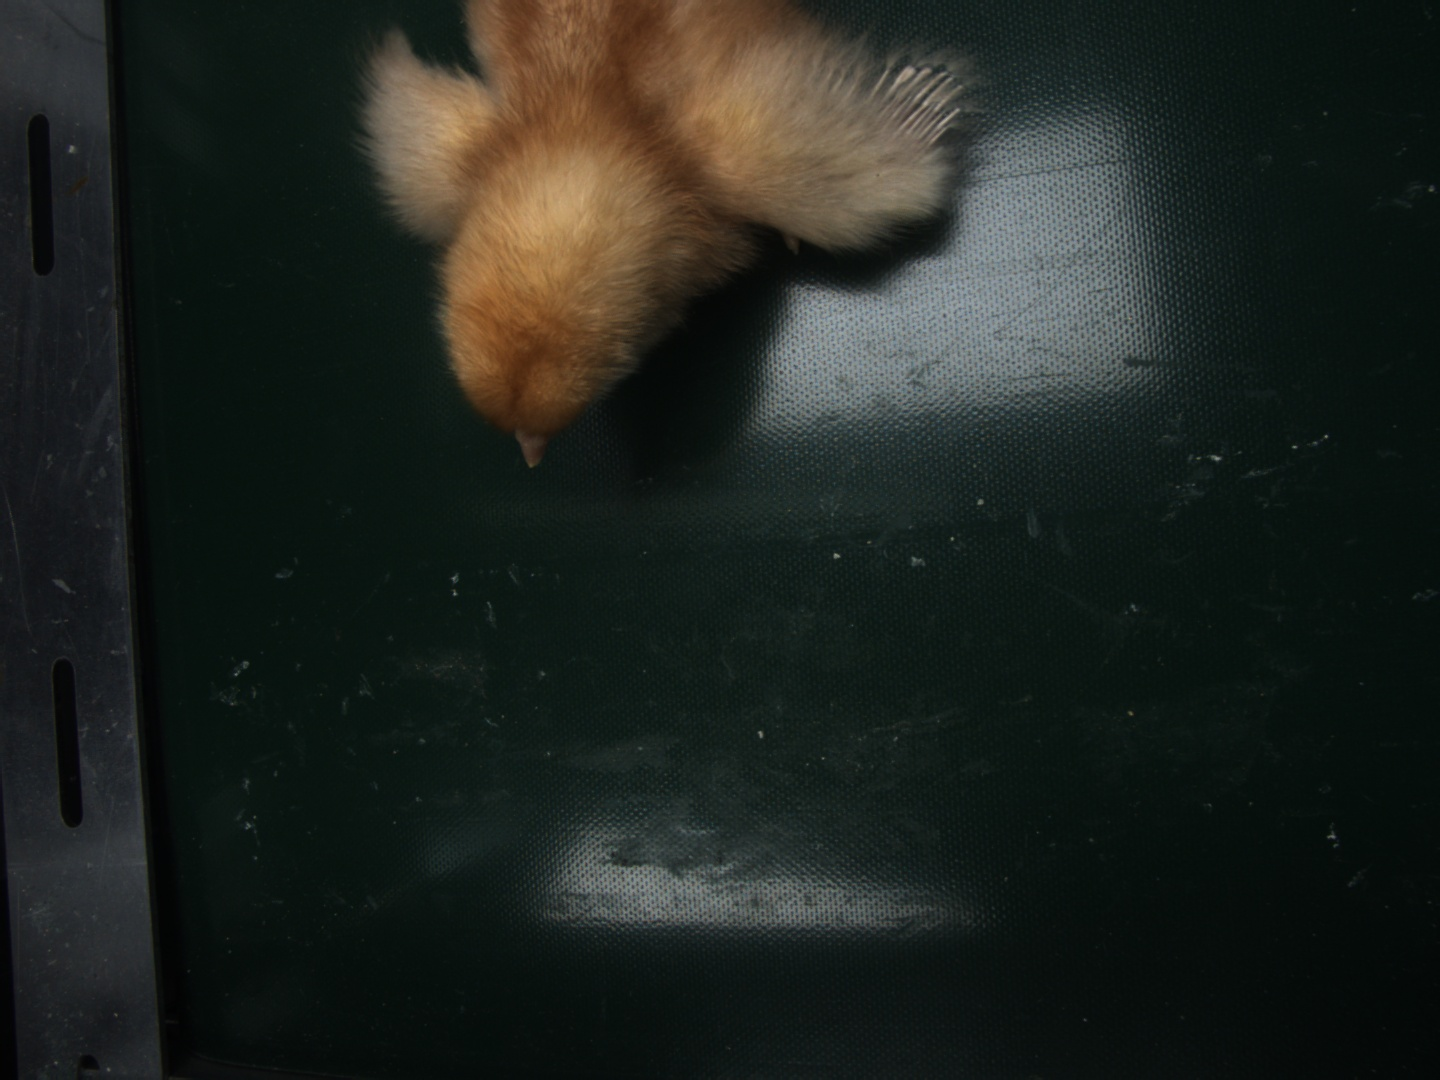female: (869, 64, 962, 149)
